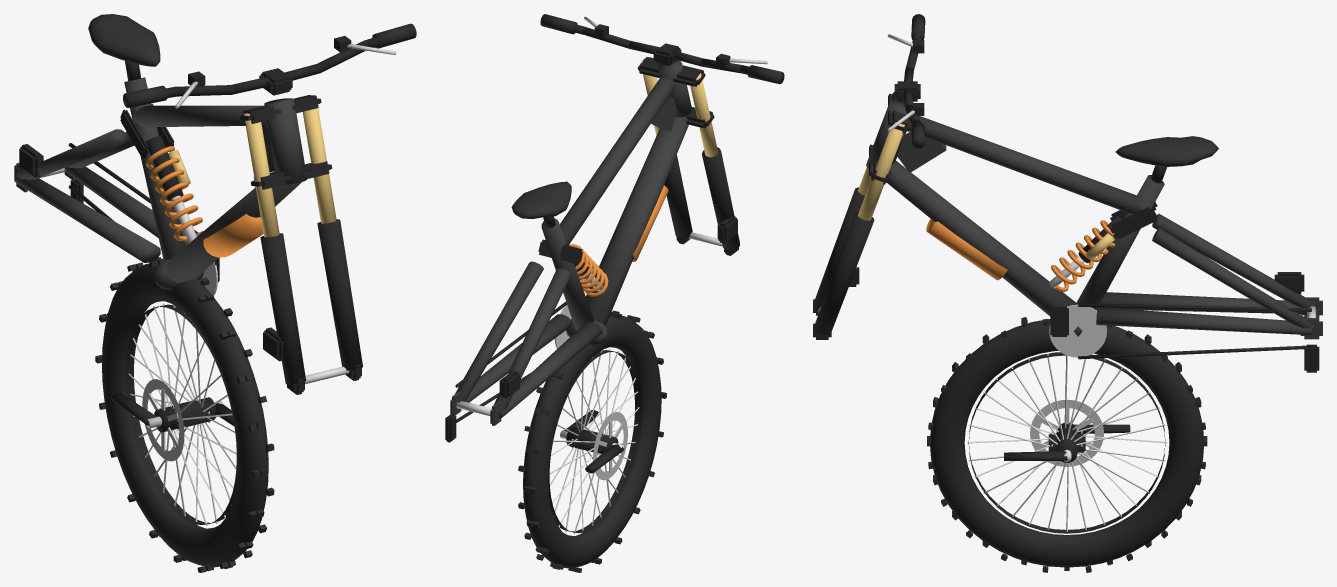
The model's file is bike.glb.
3 views of the same model, side by side, from view 1: azimuth 30°, elevation 25°; view 2: azimuth 150°, elevation 25°; view 3: azimuth 270°, elevation 25° (orthographic). The views are drawn at different scales.
Parts seen in each view (by area): view 1: WheelF, Frame, Steer, Crank; view 2: Frame, WheelF, Steer, Crank; view 3: Frame, WheelF, Steer, Crank.
Boxes of the visible parts, box(x1,y1,x2,y2) form: WheelF: box(95, 257, 274, 572); Frame: box(14, 14, 306, 295); Steer: box(123, 23, 416, 394); Crank: box(111, 392, 234, 428); Frame: box(445, 60, 691, 442); WheelF: box(518, 310, 666, 572); Steer: box(540, 14, 784, 255); Crank: box(560, 410, 624, 473); Frame: box(866, 100, 1322, 372); WheelF: box(927, 317, 1207, 572); Steer: box(813, 14, 925, 339); Crank: box(1004, 424, 1130, 462).
Bounding box in the file's own units: 0.7853 × 1.48 × 1.37.
